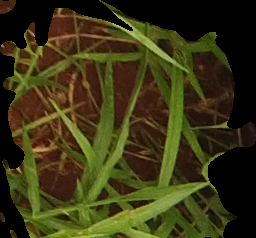grass: (1, 1, 255, 236)
